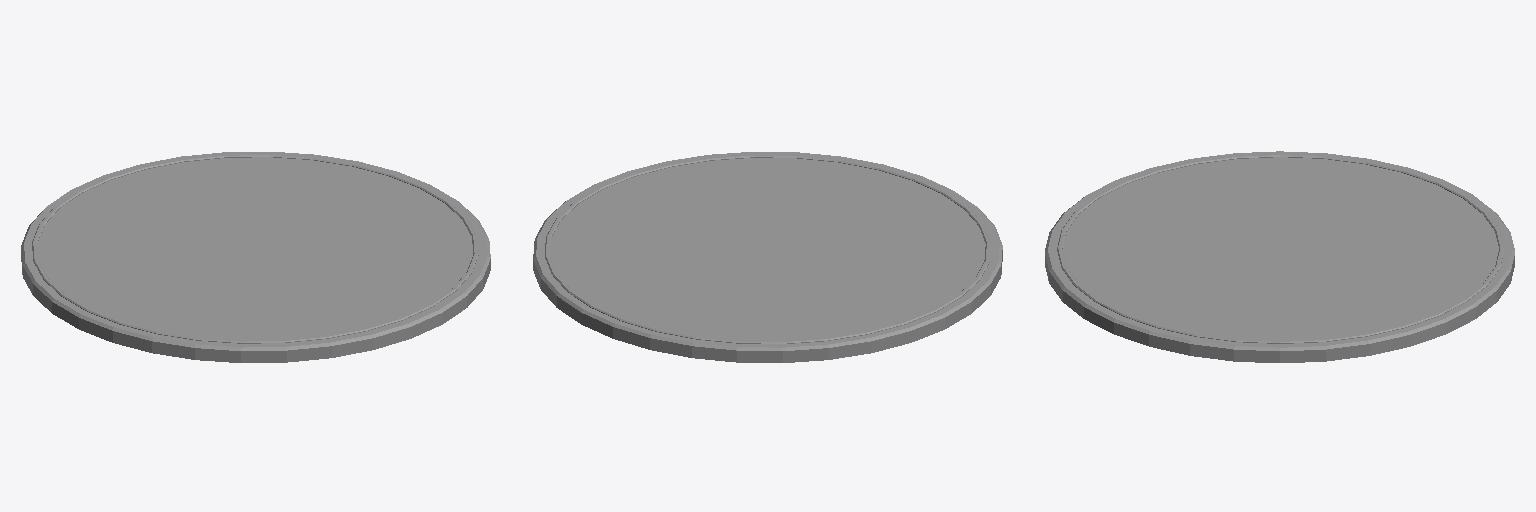
The model's file is SEWER_HATCH_model_1_.obj.
3 views of the same model, side by side, from view 1: azimuth 30°, elevation 25°; view 2: azimuth 150°, elevation 25°; view 3: azimuth 270°, elevation 25° (orthographic).
Visible parts, largest first — view 1: Circle.001; view 2: Circle.001; view 3: Circle.001.
Boxes of the visible parts, box(x1,y1,x2,y2) form: Circle.001: box(21, 152, 490, 362); Circle.001: box(533, 152, 1002, 362); Circle.001: box(1045, 151, 1514, 362).
Bounding box in the file's own units: 1.83 × 0.0693 × 1.83.